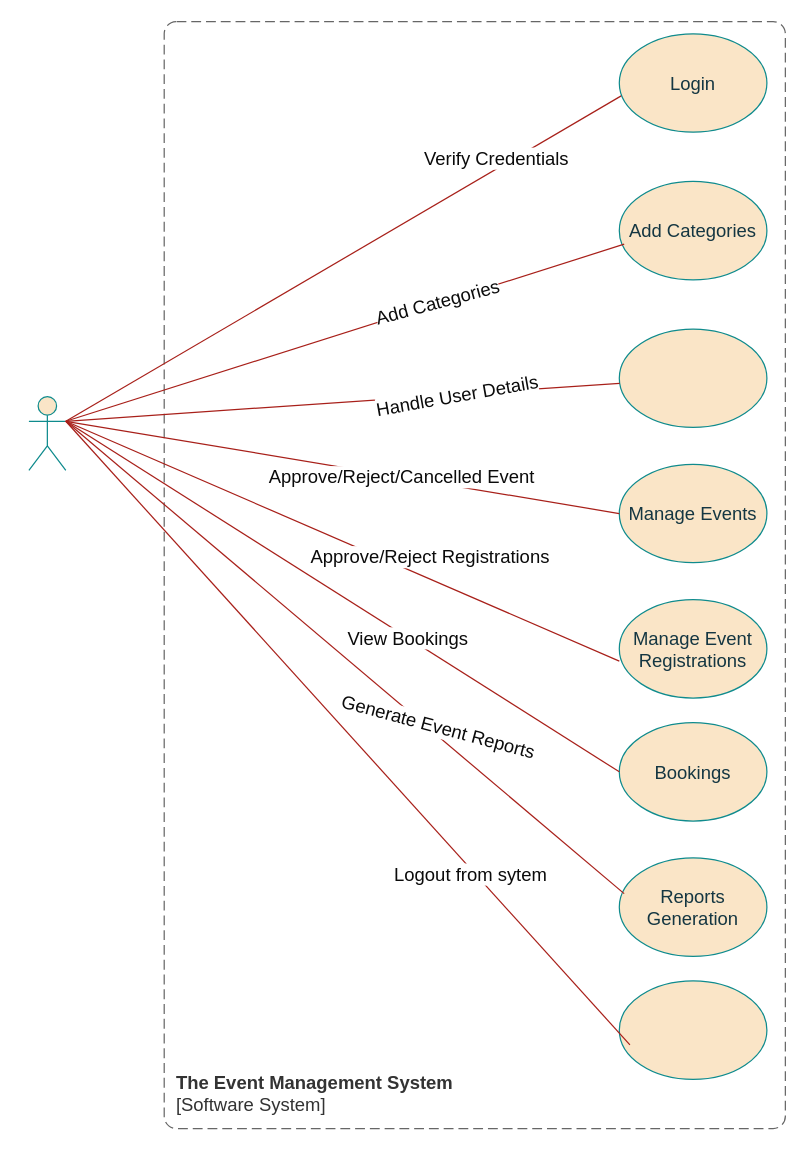
Image size: 807x1150. Some labels were removed from this diagram. Here are the shapes that lost their labels. From the top down, the centre of each, then its label:
At [692,377]: "Manage Users".
At [47,432]: "Admin".
At [692,1029]: "Logout".
